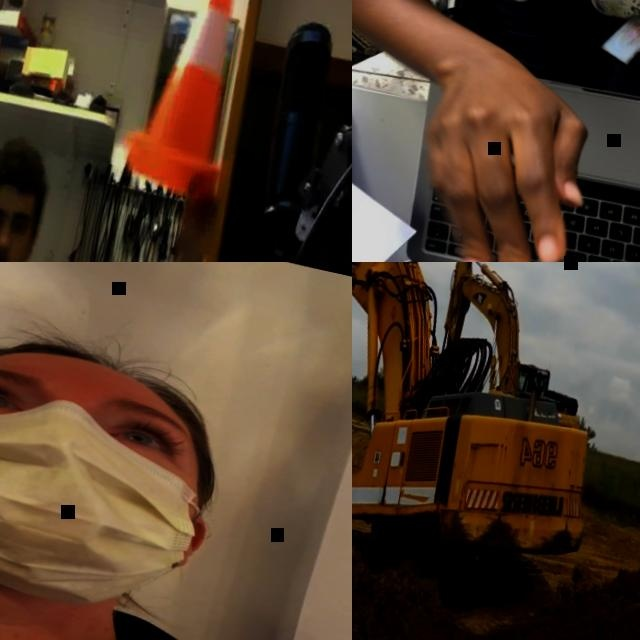Hardhat: (0, 315, 223, 432)
Mask: (0, 366, 221, 626)
NO-Hardhat: (0, 133, 54, 208)
NO-Safety Vest: (0, 540, 347, 640)
Person: (0, 273, 352, 640), (352, 0, 640, 262), (0, 115, 224, 262), (532, 370, 545, 389)
Safety Cone: (115, 0, 266, 203)
machinery: (352, 262, 640, 632), (422, 262, 609, 428)
